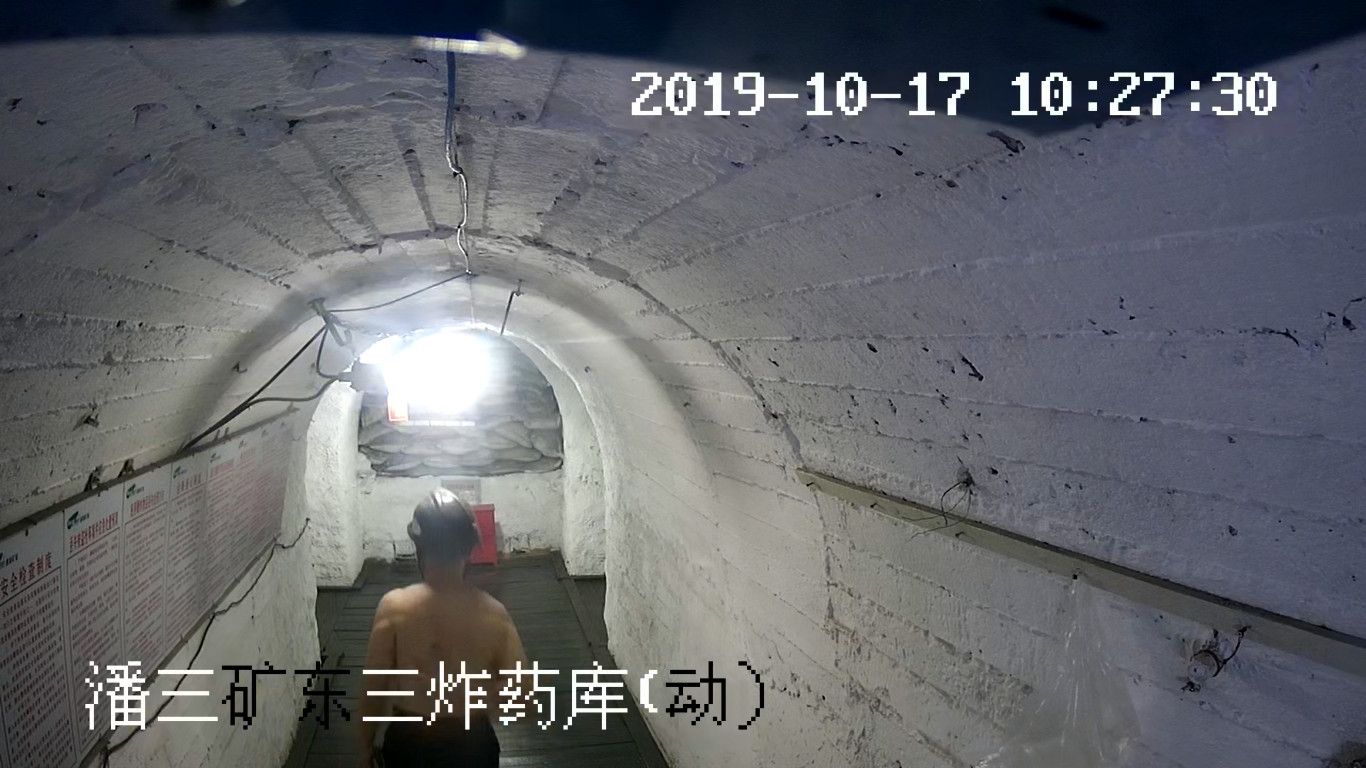helmet: (405, 484, 479, 558)
